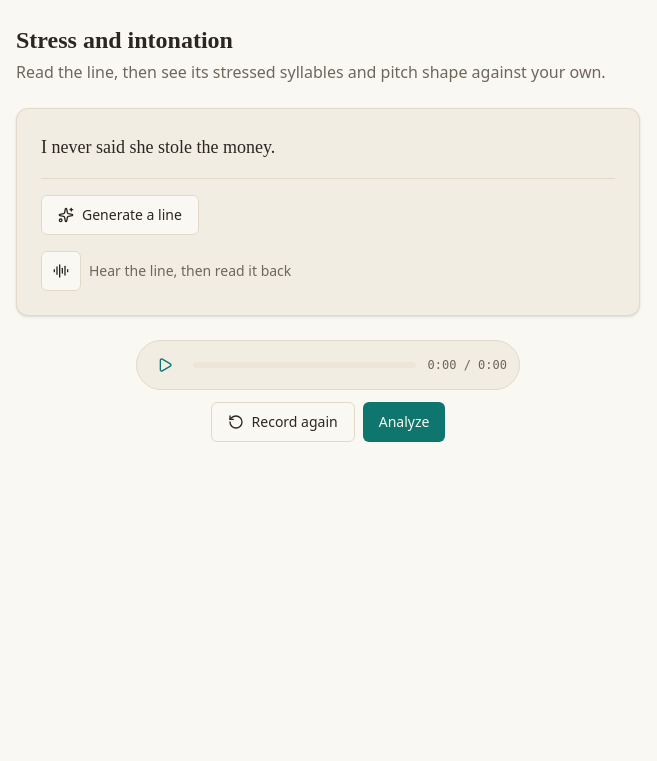
Scenario: StressIntonation › should clear the generation error when advancing to the next line
Click the button "Generate a line" at (120, 215), box x1=41 y1=195 x2=199 y2=235
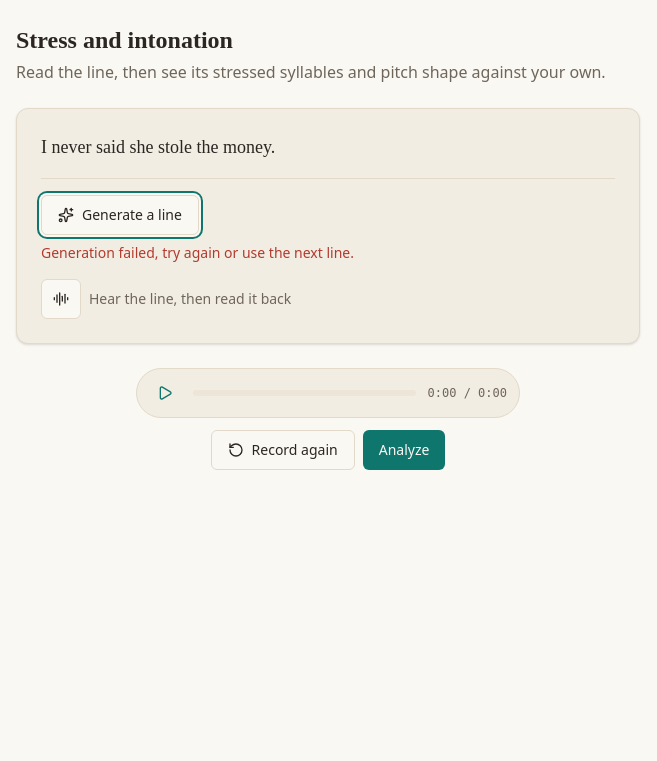
Result: the message shows "Generation failed" at x1=41 y1=243 x2=354 y2=262
Click the button "Analyze" at (404, 450), box x1=363 y1=430 x2=445 y2=470
(page scrolled)
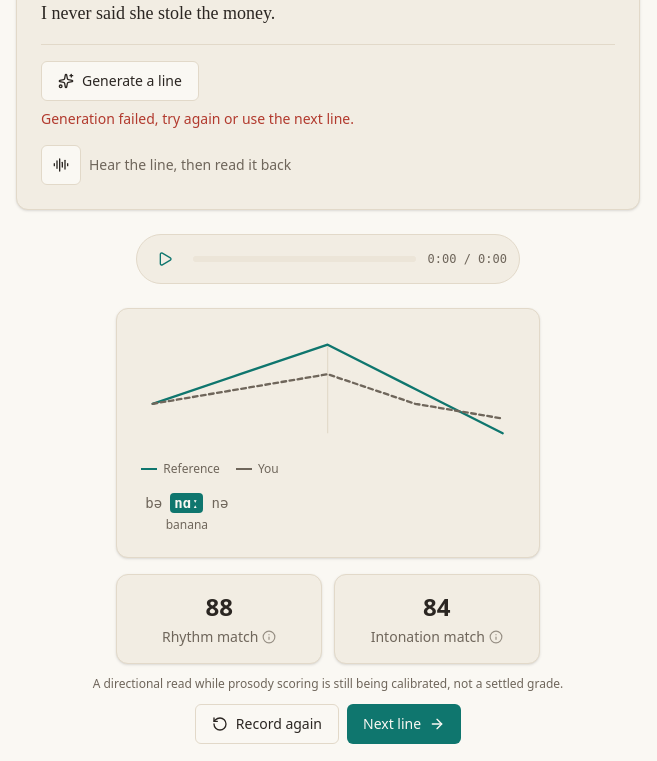
Result: the text "Rhythm match" is shown at x1=162 y1=627 x2=276 y2=647
Click the button "Next line" at (404, 724), box x1=347 y1=704 x2=461 y2=744
(page scrolled)
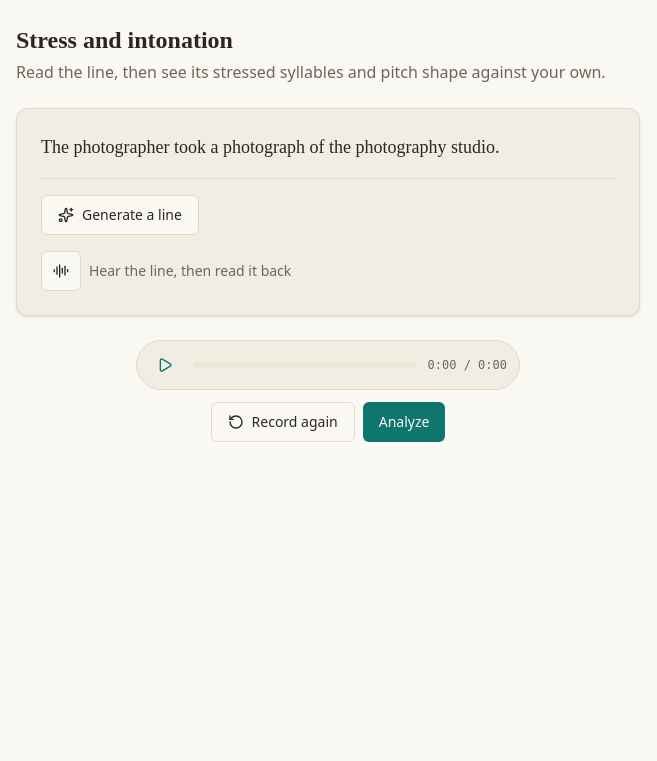
Result: the text "Generation failed" is gone
